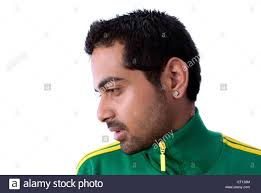Indian_Male: (86, 47, 155, 150)
